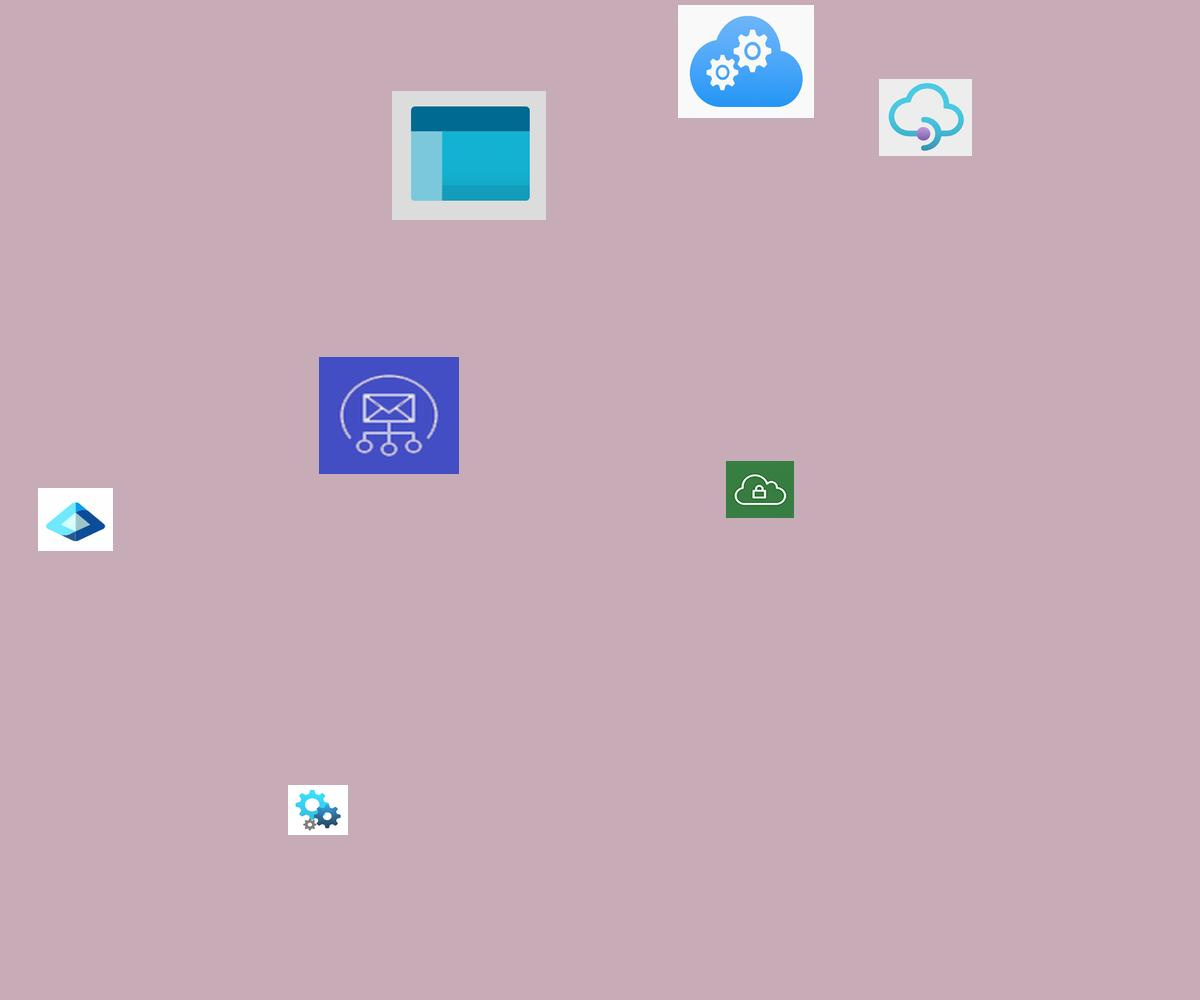AWS-Private_vpc: (726, 461, 794, 518)
AWS-Simple-Email-Service: (319, 357, 459, 474)
Azure_api: (288, 785, 348, 835)
Azure_api_gateway: (879, 79, 972, 156)
Azure_cloud_services: (678, 5, 814, 118)
Azure_management-portal: (392, 91, 546, 220)
Azure_microsoft_entra: (38, 488, 113, 551)
